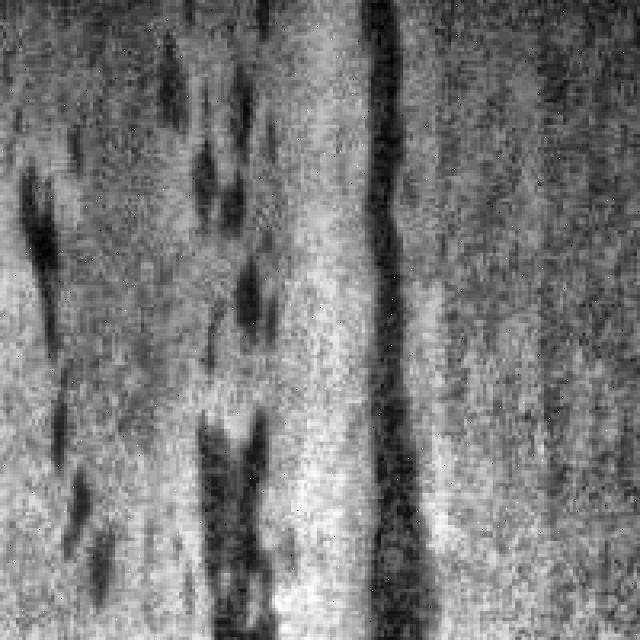Patches: (330, 0, 452, 630), (22, 112, 132, 595), (153, 3, 304, 230), (198, 400, 285, 637), (208, 243, 288, 374)
